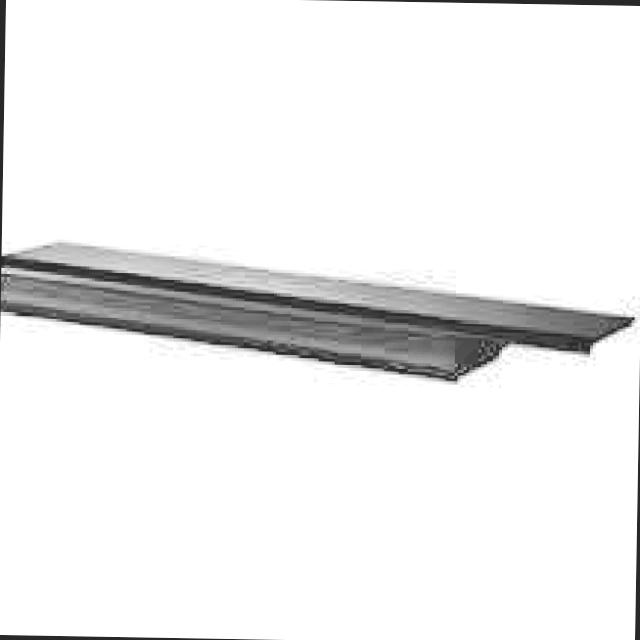Battery: (0, 240, 630, 383)
